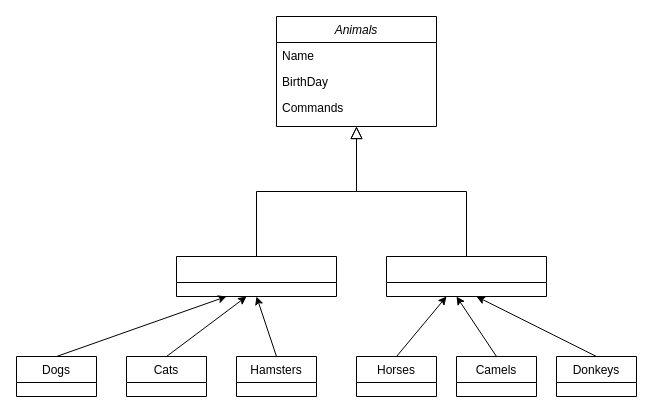
The diagram is 653 pixels wide and 413 high, and some of its shapes have lost their labels. The shapes that lost their labels are listed below. From the top down, each one's centre as x and y in pixels, then its label:
At (256,276): "Pets".
At (466,276): "Pack animals".
